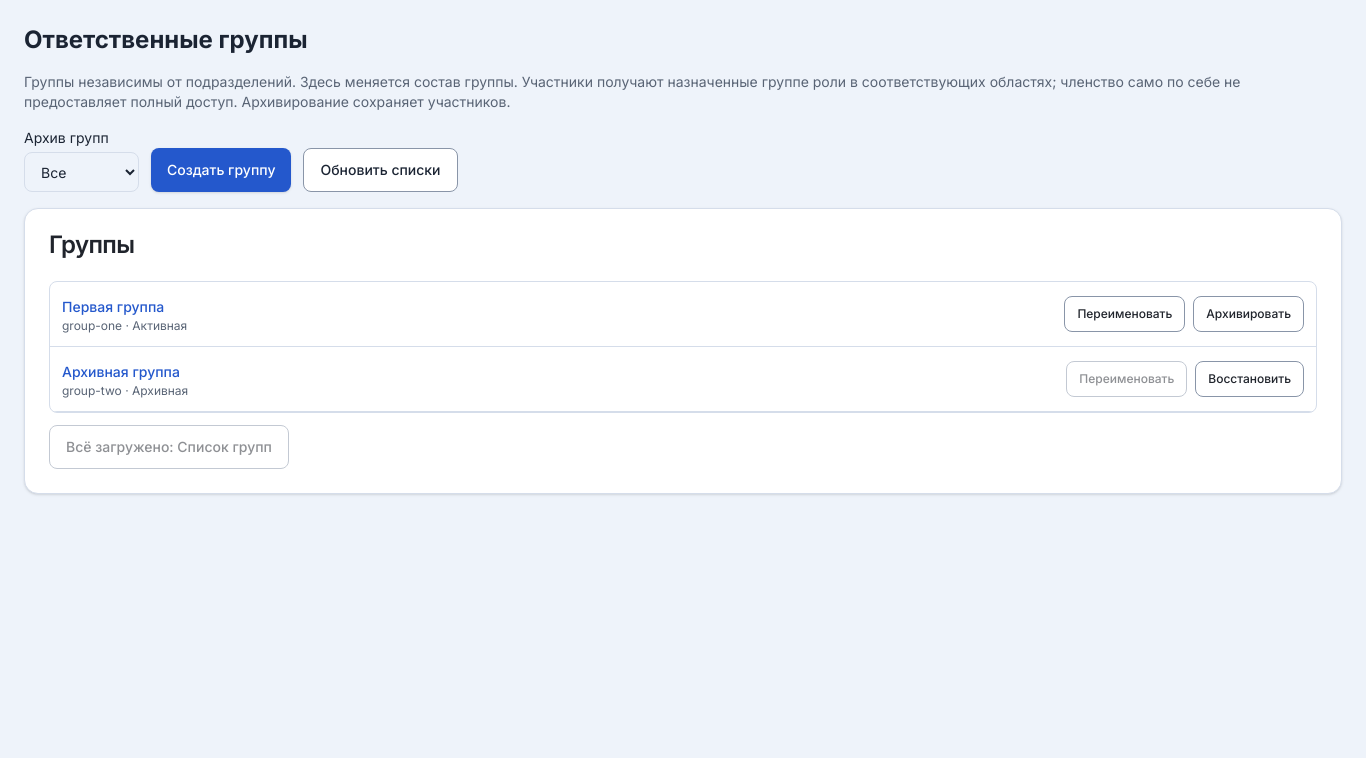
Scenario: groups, members and people reads › does not render email, auth fields or unnamed-person fallback as email
Click the button "Первая группа". click: (113, 307)
box: [62,297,164,317]
(page scrolled)
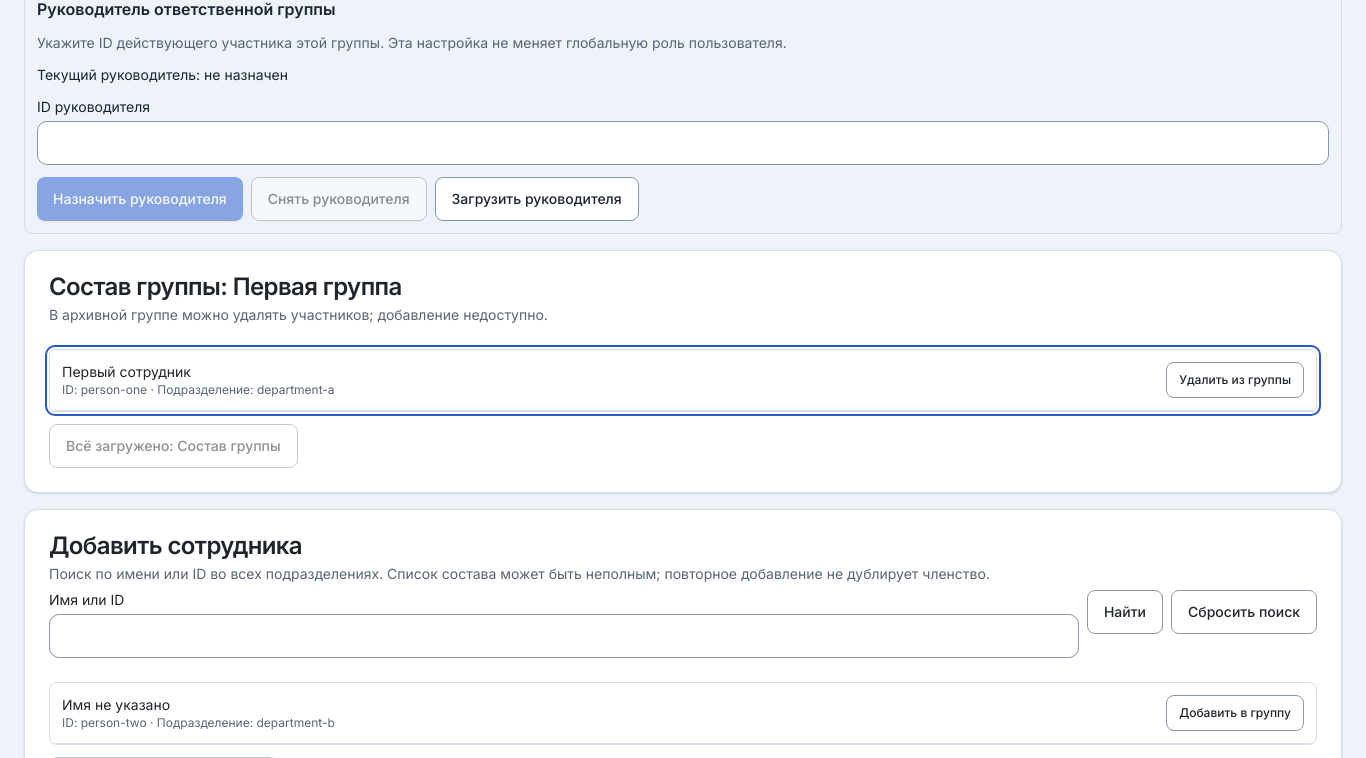
Result: the button "Удалить из группы" is enabled at [1166,362,1304,398]
Result: the text "Имя не указано" is shown at [62,696,170,713]
